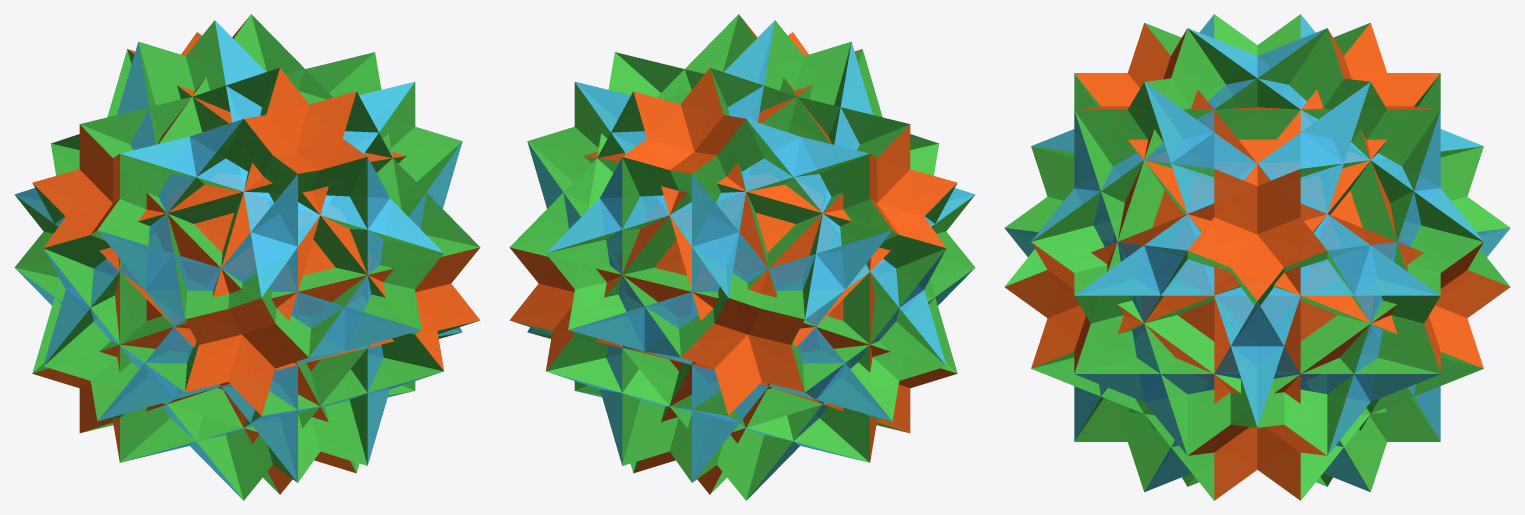
File: UniformGreatRhombicosidodecahedron.obj
The picture shows the model from 3 angles, left to right: view 1: azimuth 30°, elevation 25°; view 2: azimuth 150°, elevation 25°; view 3: azimuth 270°, elevation 25°; orthographic projection. The views are drawn at different scales.
Size of the model in its own units: 1.38 by 1.38 by 1.38.
